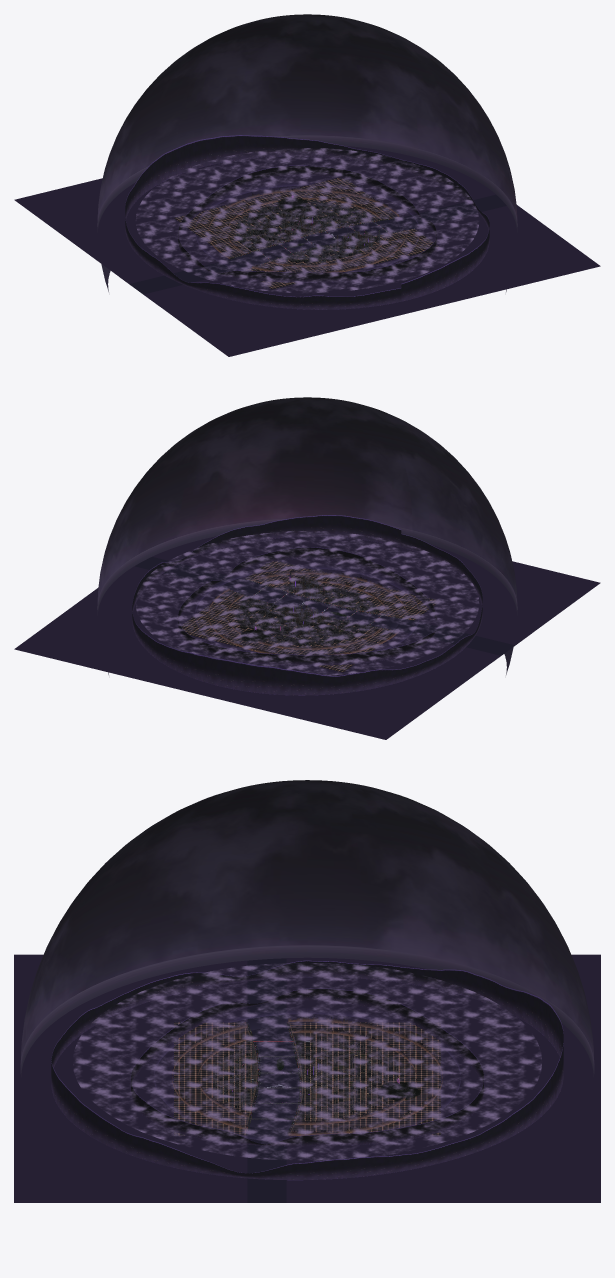
The model's file is haneul-tower.glb.
3 renders of one model, top to bottom at view 1: azimuth 30°, elevation 25°; view 2: azimuth 150°, elevation 25°; view 3: azimuth 270°, elevation 25°, orthographic. The views are drawn at different scales.
Parts seen in each view (by area): view 1: DECO_X_exterior_sky_ext_sky, DECO_X_exterior_ground_ext_land_out, DECO_X_exterior_clouds_ext_cloud, DECO_X_exterior_ridges_ext_ridge_far, DECO_X_exterior_ground_ext_ground, DECO_X_exterior_ridges_ext_ridge_near, DECO_X_exterior_river_ext_river, DECO_X_exterior_city_ext_mid, DECO_X_exterior_city_ext_apt, DECO_X_exterior_ridges_ext_rainhaze, DECO_X_exterior_far_ext_band2, DECO_X_exterior_far_ext_band1 (+6 smaller); view 2: DECO_X_exterior_sky_ext_sky, DECO_X_exterior_ground_ext_land_out, DECO_X_exterior_clouds_ext_cloud, DECO_X_exterior_ridges_ext_ridge_far, DECO_X_exterior_ground_ext_ground, DECO_X_exterior_ridges_ext_ridge_near, DECO_X_exterior_river_ext_river, DECO_X_exterior_city_ext_mid, DECO_X_exterior_city_ext_apt, DECO_X_exterior_ridges_ext_rainhaze, DECO_X_exterior_far_ext_band2, DECO_X_exterior_city_env_facade (+6 smaller); view 3: DECO_X_exterior_sky_ext_sky, DECO_X_exterior_ground_ext_land_out, DECO_X_exterior_clouds_ext_cloud, DECO_X_exterior_ridges_ext_ridge_far, DECO_X_exterior_ground_ext_ground, DECO_X_exterior_ridges_ext_ridge_near, DECO_X_exterior_river_ext_river, DECO_X_exterior_ridges_ext_rainhaze, DECO_X_exterior_city_ext_mid, DECO_X_exterior_far_ext_band2, DECO_X_exterior_ridges_ext_mist, DECO_X_exterior_far_ext_band1 (+6 smaller).
Part boxes in pixels (box(x1,y1,x2,y2)): DECO_X_exterior_sky_ext_sky: box(97, 14, 517, 291); DECO_X_exterior_ground_ext_land_out: box(14, 146, 600, 356); DECO_X_exterior_clouds_ext_cloud: box(136, 148, 478, 292); DECO_X_exterior_ridges_ext_ridge_far: box(125, 135, 489, 309); DECO_X_exterior_ground_ext_ground: box(174, 178, 439, 289); DECO_X_exterior_ridges_ext_ridge_near: box(178, 165, 436, 282); DECO_X_exterior_river_ext_river: box(125, 194, 506, 295); DECO_X_exterior_city_ext_mid: box(235, 201, 373, 263); DECO_X_exterior_city_ext_apt: box(235, 203, 378, 262); DECO_X_exterior_ridges_ext_rainhaze: box(214, 189, 400, 271); DECO_X_exterior_far_ext_band2: box(208, 187, 406, 272); DECO_X_exterior_far_ext_band1: box(227, 196, 386, 266); DECO_X_exterior_sky_ext_sky: box(97, 397, 517, 674); DECO_X_exterior_ground_ext_land_out: box(14, 536, 600, 739); DECO_X_exterior_clouds_ext_cloud: box(136, 531, 478, 675); DECO_X_exterior_ridges_ext_ridge_far: box(132, 515, 482, 695); DECO_X_exterior_ground_ext_ground: box(176, 561, 439, 672); DECO_X_exterior_ridges_ext_ridge_near: box(178, 547, 436, 665); DECO_X_exterior_river_ext_river: box(135, 557, 526, 655); DECO_X_exterior_city_ext_mid: box(236, 588, 377, 646); DECO_X_exterior_city_ext_apt: box(235, 585, 378, 646); DECO_X_exterior_ridges_ext_rainhaze: box(214, 572, 400, 654); DECO_X_exterior_far_ext_band2: box(208, 570, 406, 655); DECO_X_exterior_city_env_facade: box(264, 577, 363, 634); DECO_X_exterior_sky_ext_sky: box(20, 780, 594, 1076); DECO_X_exterior_ground_ext_land_out: box(14, 954, 600, 1202); DECO_X_exterior_clouds_ext_cloud: box(73, 963, 541, 1160); DECO_X_exterior_ridges_ext_ridge_far: box(51, 960, 563, 1180); DECO_X_exterior_ground_ext_ground: box(174, 1022, 440, 1135); DECO_X_exterior_ridges_ext_ridge_near: box(131, 988, 483, 1146); DECO_X_exterior_river_ext_river: box(247, 958, 299, 1202); DECO_X_exterior_ridges_ext_rainhaze: box(180, 1018, 434, 1131); DECO_X_exterior_city_ext_mid: box(213, 1037, 404, 1120); DECO_X_exterior_far_ext_band2: box(172, 1015, 442, 1135); DECO_X_exterior_ridges_ext_mist: box(154, 1009, 460, 1141); DECO_X_exterior_far_ext_band1: box(198, 1028, 416, 1124).
Size of the model in its own units: 18000 by 11568 by 18000.
Materials: 145 (117 with a texture image).
